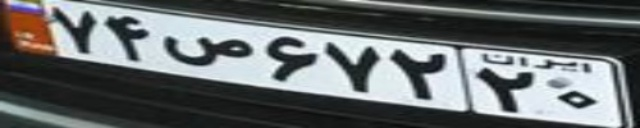0: (554, 90, 599, 110)
2: (387, 49, 448, 100), (473, 66, 539, 113)
4: (103, 13, 151, 61)
6: (262, 36, 317, 82)
7: (323, 41, 380, 92), (47, 7, 98, 54)
saat: (161, 33, 254, 68)
